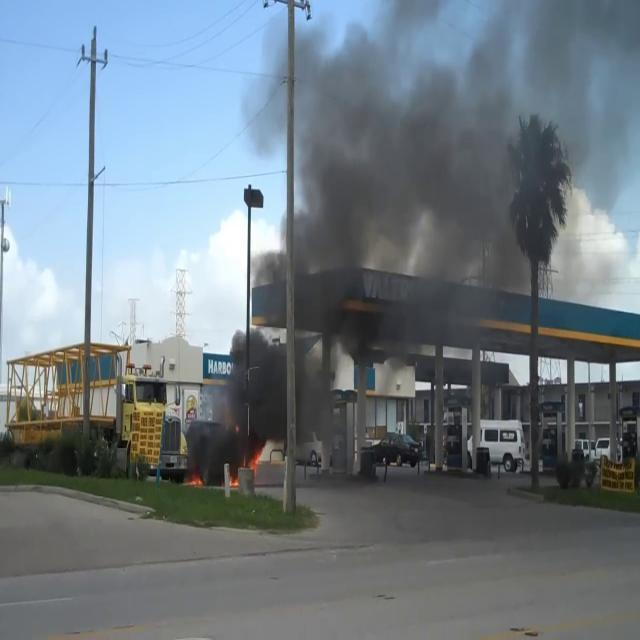Fire: (248, 435, 284, 473)
Smoke: (212, 1, 580, 452)
